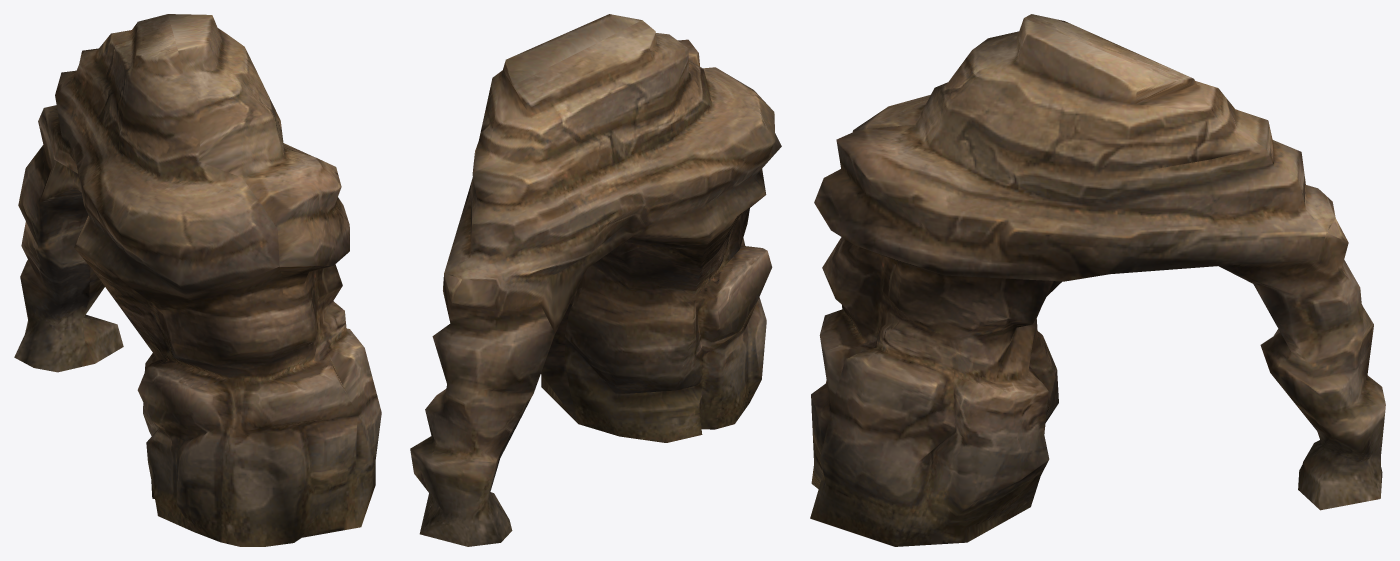
File: SC_tamalagebi_26.FBX
3 views of the same model, side by side, from view 1: azimuth 30°, elevation 25°; view 2: azimuth 150°, elevation 25°; view 3: azimuth 270°, elevation 25° (orthographic). The views are drawn at different scales.
Parts seen in each view (by area): view 1: SC_tamalagebi_26; view 2: SC_tamalagebi_26; view 3: SC_tamalagebi_26.
Part boxes in pixels (left/top/right/bottom): SC_tamalagebi_26: left=14, top=14, right=381, bottom=546; SC_tamalagebi_26: left=410, top=14, right=781, bottom=546; SC_tamalagebi_26: left=810, top=14, right=1385, bottom=546.
Bounding box in the file's own units: 812 × 1320 × 1508.
